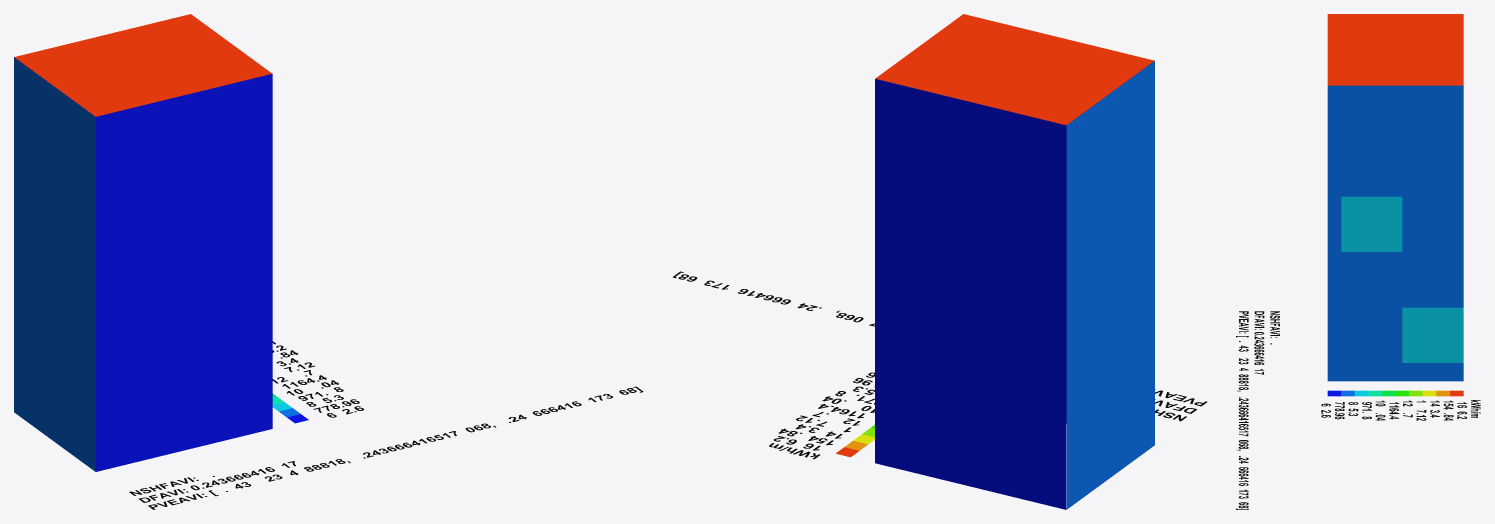
Rendered from example1_part_solar.dae.
The picture shows the model from 3 angles, left to right: view 1: azimuth 30°, elevation 25°; view 2: azimuth 150°, elevation 25°; view 3: azimuth 270°, elevation 25°; orthographic projection. The views are drawn at different scales.
Parts seen in each view (by area): view 1: node0 (×4); view 2: node0 (×4); view 3: node0 (×4).
Boxes of the visible parts, x1,y1,x2,y2 form: node0 (×4): (14, 14, 643, 509); node0 (×4): (672, 14, 1207, 509); node0 (×4): (1236, 14, 1480, 509).
Size of the model in its own units: 69.77 by 36.01 by 48.01.
